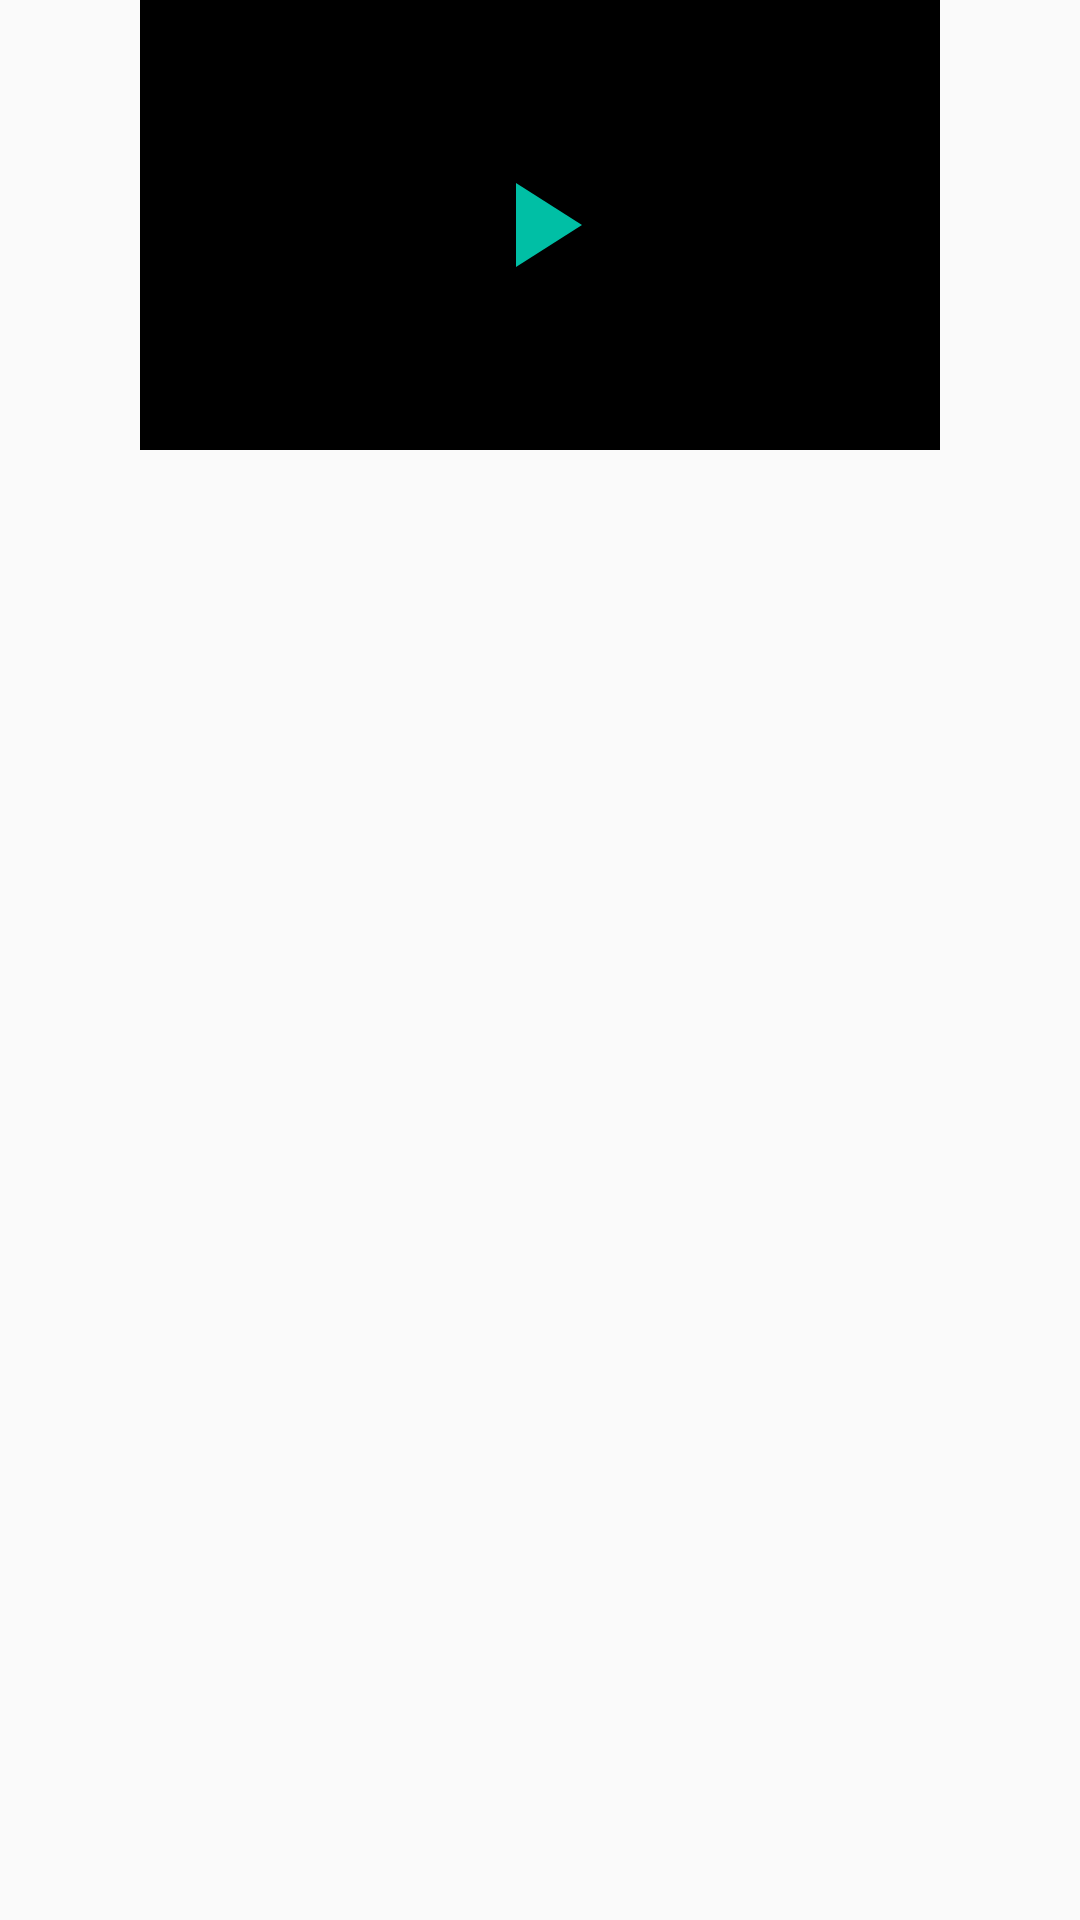

Screen size 1080px x 1920px. Icon name, then its box in pixels as [x1,y1,x2,y2]:
Play video icon: [516,183,582,267]
